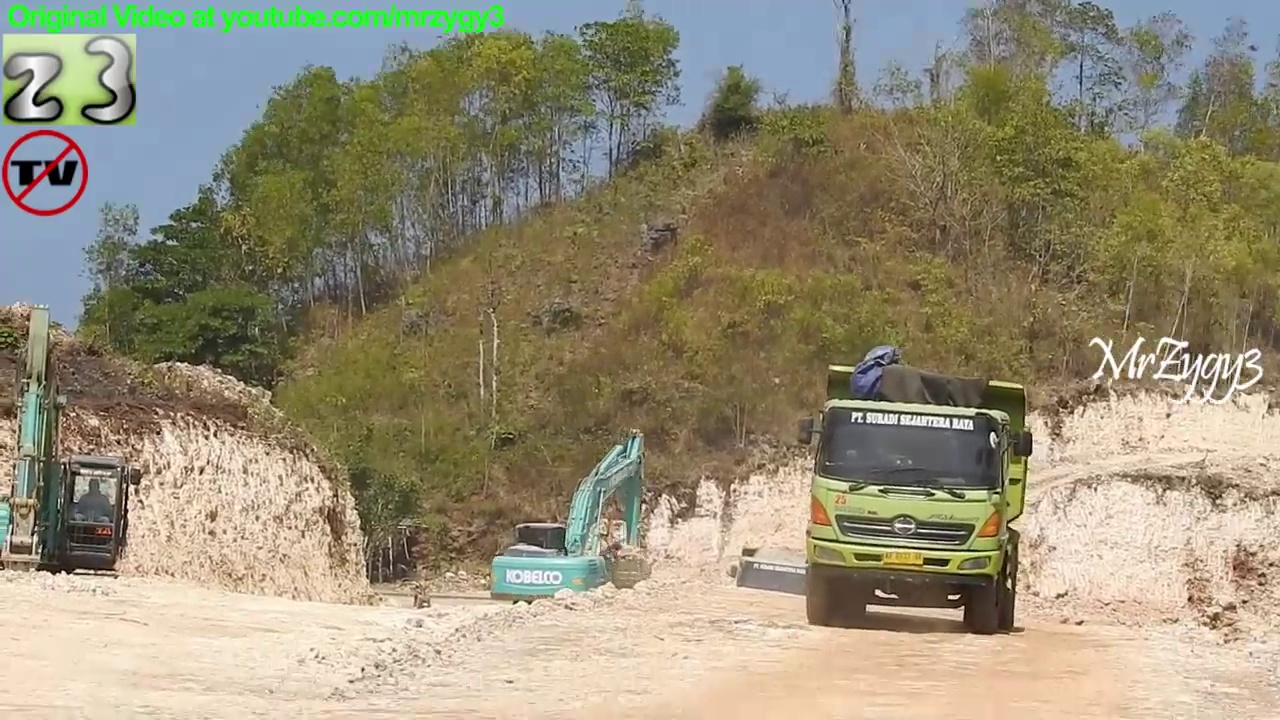excavator: (1, 294, 148, 612), (485, 423, 661, 631)
truck: (792, 358, 1040, 638), (724, 540, 846, 664)
